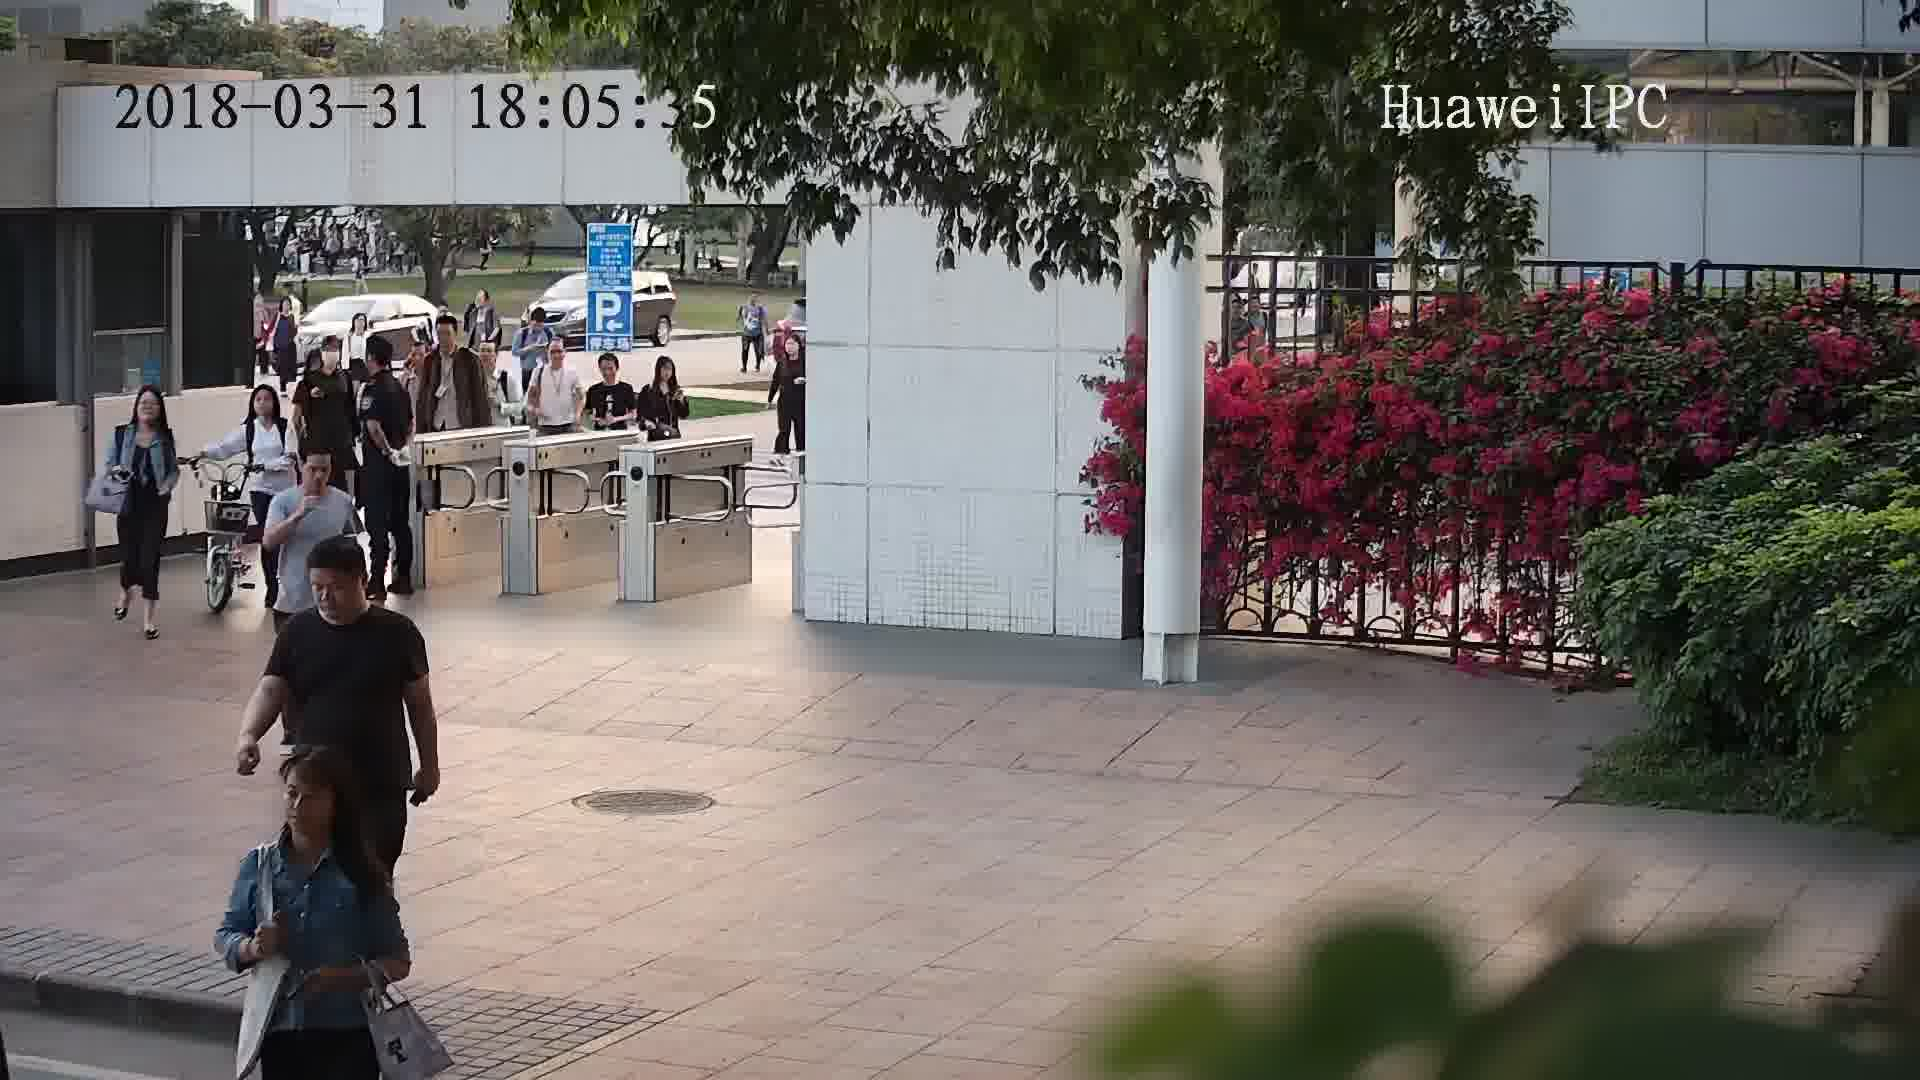face: (275, 766, 342, 833), (308, 568, 362, 622)
person: (242, 743, 379, 897), (275, 536, 422, 658), (276, 445, 359, 519), (119, 381, 179, 456), (240, 379, 296, 440), (361, 334, 408, 401), (303, 335, 356, 393), (429, 313, 472, 370), (589, 349, 633, 401), (397, 341, 439, 393), (535, 337, 582, 379), (642, 354, 682, 401), (473, 335, 512, 381), (778, 332, 812, 374), (266, 294, 301, 329), (521, 308, 553, 341), (345, 309, 374, 344), (470, 286, 499, 318), (742, 291, 767, 312)
